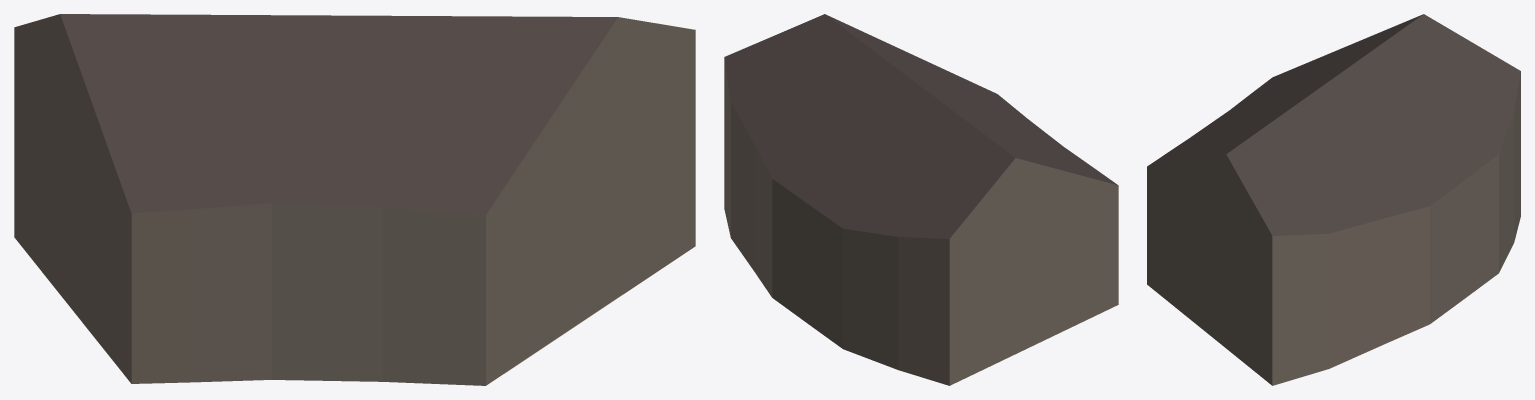
3 views of the same model, side by side, from view 1: azimuth 30°, elevation 25°; view 2: azimuth 150°, elevation 25°; view 3: azimuth 270°, elevation 25° (orthographic). The views are drawn at different scales.
Parts seen in each view (by area): view 1: HP-w859082483; view 2: HP-w859082483; view 3: HP-w859082483.
Boxes of the visible parts, x1,y1,x2,y2 form: HP-w859082483: (14,14,695,385); HP-w859082483: (724,14,1118,385); HP-w859082483: (1147,14,1520,385).
Size of the model in its own units: 20.76 by 9.87 by 17.22.
